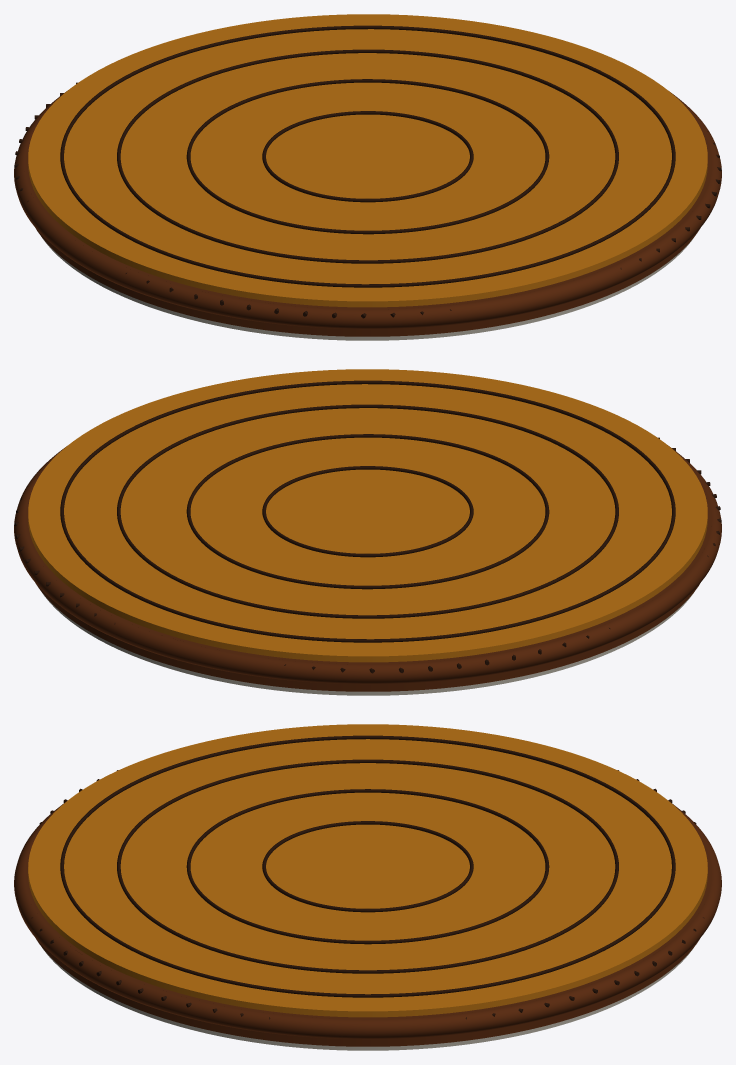
The model's file is orinscare_cake_pad_v6_realistic.glb.
3 views of the same model, one above another, from view 1: azimuth 30°, elevation 25°; view 2: azimuth 150°, elevation 25°; view 3: azimuth 270°, elevation 25° (orthographic).
Parts seen in each view (by area): view 1: top_gold_laminated_film_subtle_reflection, rounded_outer_crimped_edge, lower_kraft_paperboard_core_visible_layer, concentric_embossed_press_line_1.62, concentric_embossed_press_line_1.32, concentric_embossed_press_line_0.95, bottom_silver_laminated_film, concentric_embossed_press_line_0.55; view 2: top_gold_laminated_film_subtle_reflection, rounded_outer_crimped_edge, lower_kraft_paperboard_core_visible_layer, concentric_embossed_press_line_1.62, concentric_embossed_press_line_1.32, concentric_embossed_press_line_0.95, bottom_silver_laminated_film, concentric_embossed_press_line_0.55; view 3: top_gold_laminated_film_subtle_reflection, rounded_outer_crimped_edge, lower_kraft_paperboard_core_visible_layer, concentric_embossed_press_line_1.62, concentric_embossed_press_line_1.32, concentric_embossed_press_line_0.95, bottom_silver_laminated_film, concentric_embossed_press_line_0.55.
Part boxes in pixels (box(x1,y1,x2,y2)): top_gold_laminated_film_subtle_reflection: box(28, 14, 707, 307); rounded_outer_crimped_edge: box(14, 91, 721, 329); lower_kraft_paperboard_core_visible_layer: box(24, 126, 711, 336); concentric_embossed_press_line_1.62: box(60, 25, 675, 287); concentric_embossed_press_line_1.32: box(117, 49, 618, 263); concentric_embossed_press_line_0.95: box(186, 79, 549, 234); bottom_silver_laminated_film: box(41, 236, 693, 340); concentric_embossed_press_line_0.55: box(262, 111, 473, 202); top_gold_laminated_film_subtle_reflection: box(28, 369, 707, 662); rounded_outer_crimped_edge: box(14, 446, 721, 684); lower_kraft_paperboard_core_visible_layer: box(24, 481, 711, 691); concentric_embossed_press_line_1.62: box(60, 380, 675, 642); concentric_embossed_press_line_1.32: box(117, 404, 618, 618); concentric_embossed_press_line_0.95: box(186, 434, 549, 589); bottom_silver_laminated_film: box(42, 591, 694, 695); concentric_embossed_press_line_0.55: box(262, 466, 473, 557); top_gold_laminated_film_subtle_reflection: box(28, 724, 707, 1017); rounded_outer_crimped_edge: box(14, 801, 721, 1039); lower_kraft_paperboard_core_visible_layer: box(24, 837, 711, 1046); concentric_embossed_press_line_1.62: box(60, 735, 675, 997); concentric_embossed_press_line_1.32: box(117, 759, 618, 973); concentric_embossed_press_line_0.95: box(186, 789, 549, 944); bottom_silver_laminated_film: box(42, 948, 693, 1050); concentric_embossed_press_line_0.55: box(262, 821, 473, 912).
Bounding box in the file's own units: 3.75 × 0.2465 × 3.75.
